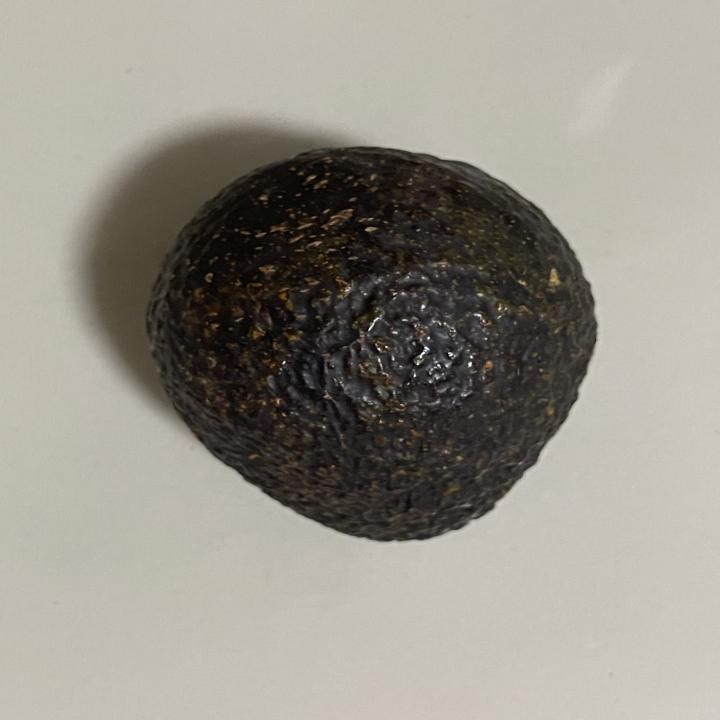Level2: (138, 142, 604, 550)
